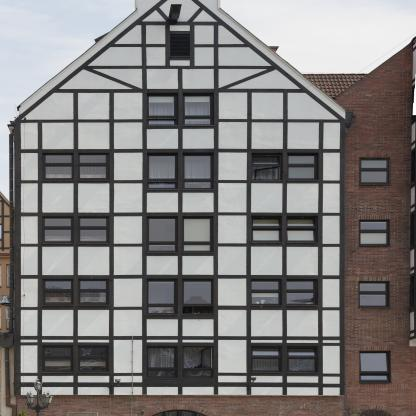Building Outline: (14, 0, 347, 416)
Facade: (14, 120, 345, 416)
Floor: (14, 328, 345, 401), (14, 265, 345, 328), (14, 202, 345, 265), (14, 138, 345, 201), (59, 72, 300, 138)
Floor Slab: (14, 322, 345, 328), (14, 258, 345, 264), (14, 196, 345, 202), (14, 132, 345, 138), (14, 396, 345, 402), (68, 66, 293, 72)
Ground Floor: (14, 401, 345, 416)
Top Floor: (135, 0, 220, 72)
Window: (183, 345, 214, 383), (183, 278, 214, 316), (147, 346, 178, 383), (183, 153, 214, 190), (147, 216, 178, 253), (183, 216, 214, 253), (147, 279, 178, 316), (147, 153, 178, 189), (183, 92, 214, 126), (147, 92, 178, 126), (251, 345, 283, 373), (287, 153, 319, 181), (251, 278, 283, 306), (79, 346, 110, 374), (287, 346, 318, 374), (43, 153, 74, 181), (79, 153, 110, 181), (43, 216, 74, 244), (79, 216, 110, 244), (287, 216, 318, 244), (43, 279, 74, 307), (79, 279, 110, 307), (287, 279, 318, 307), (251, 153, 283, 180), (251, 216, 283, 243), (42, 346, 73, 373), (170, 34, 191, 58)
dont: (22, 377, 54, 416)
